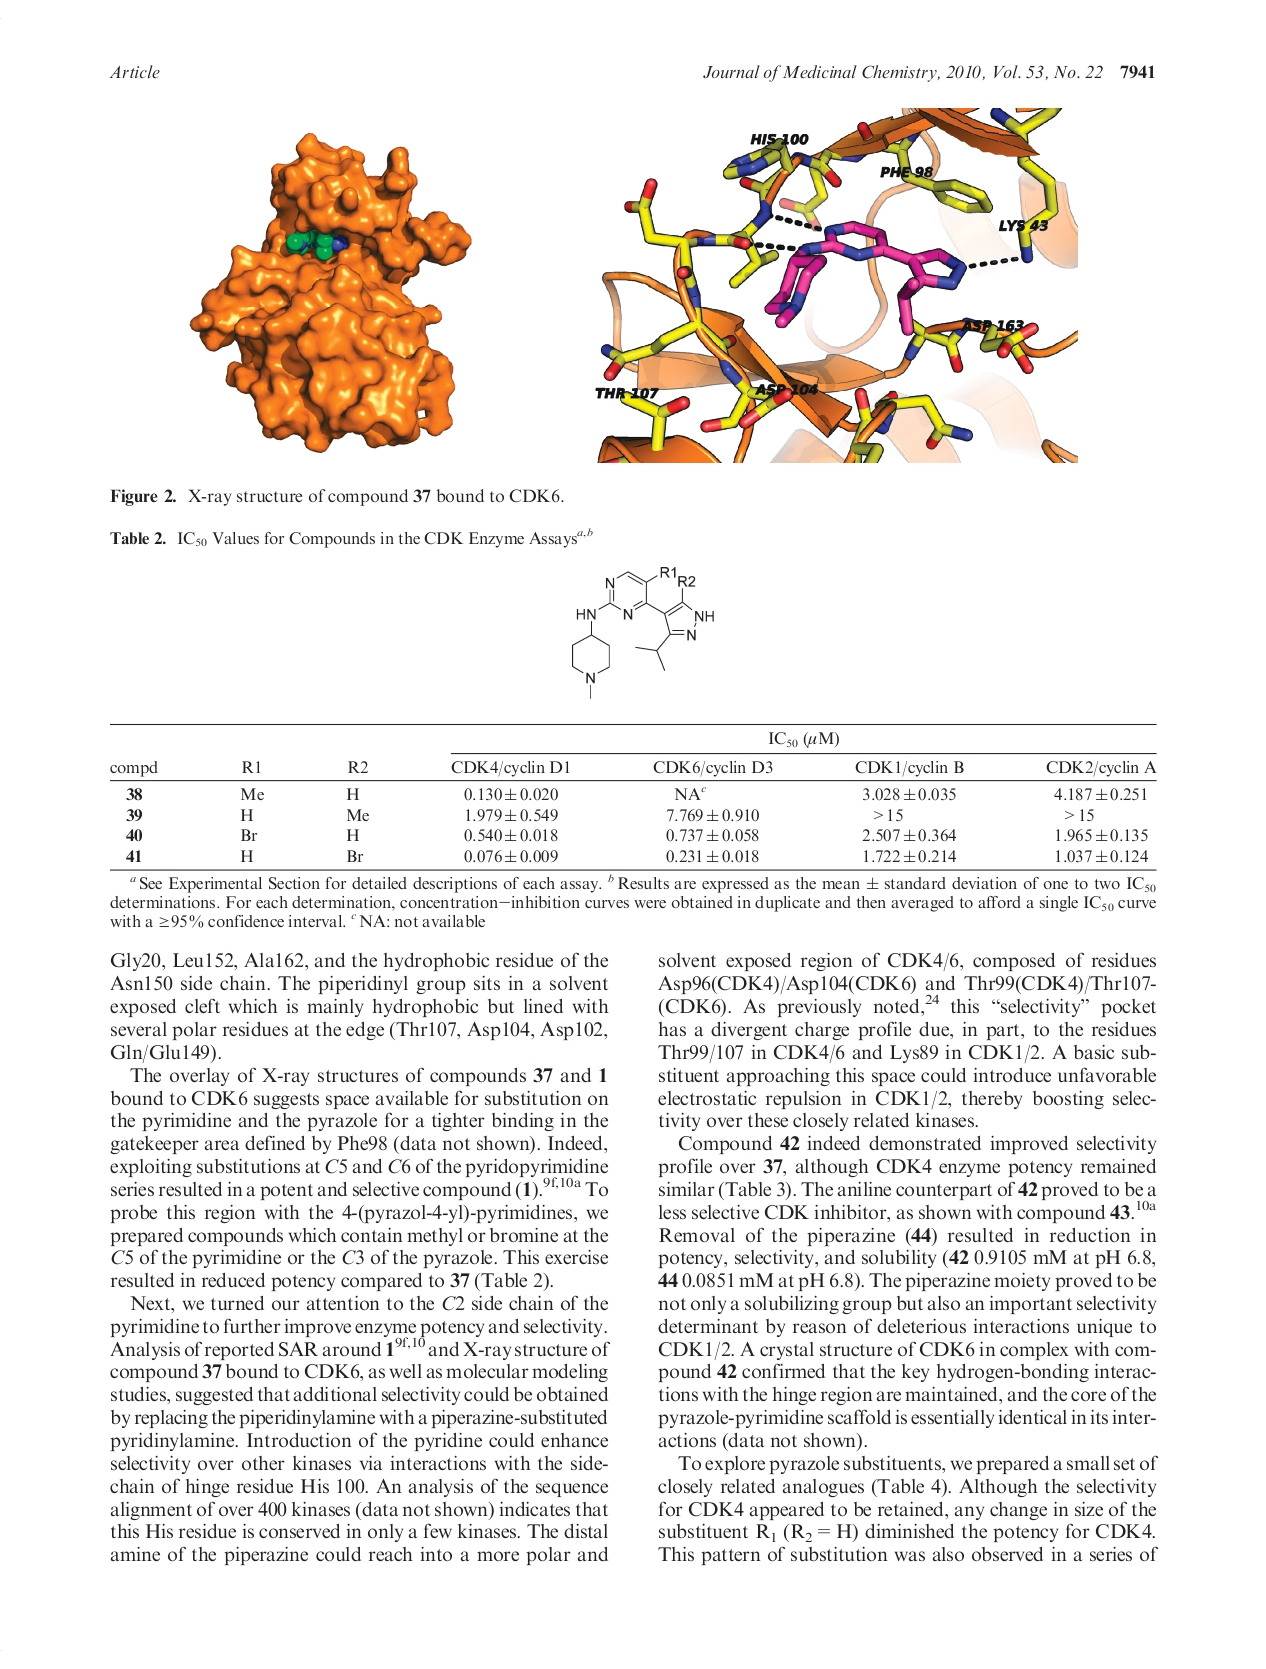exist_molecular: (570, 567, 715, 701)
